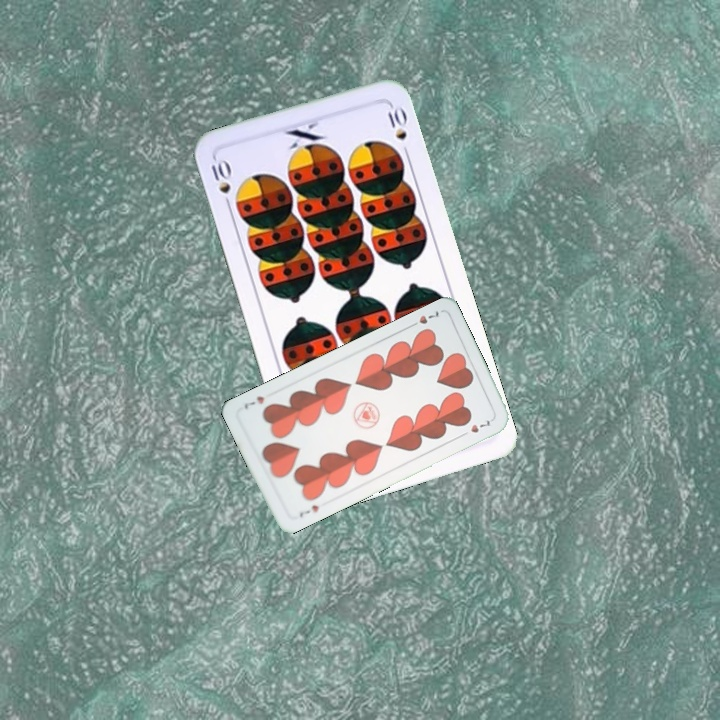H7: (405, 307, 442, 330), (295, 501, 321, 520)
S10: (207, 154, 234, 212)
